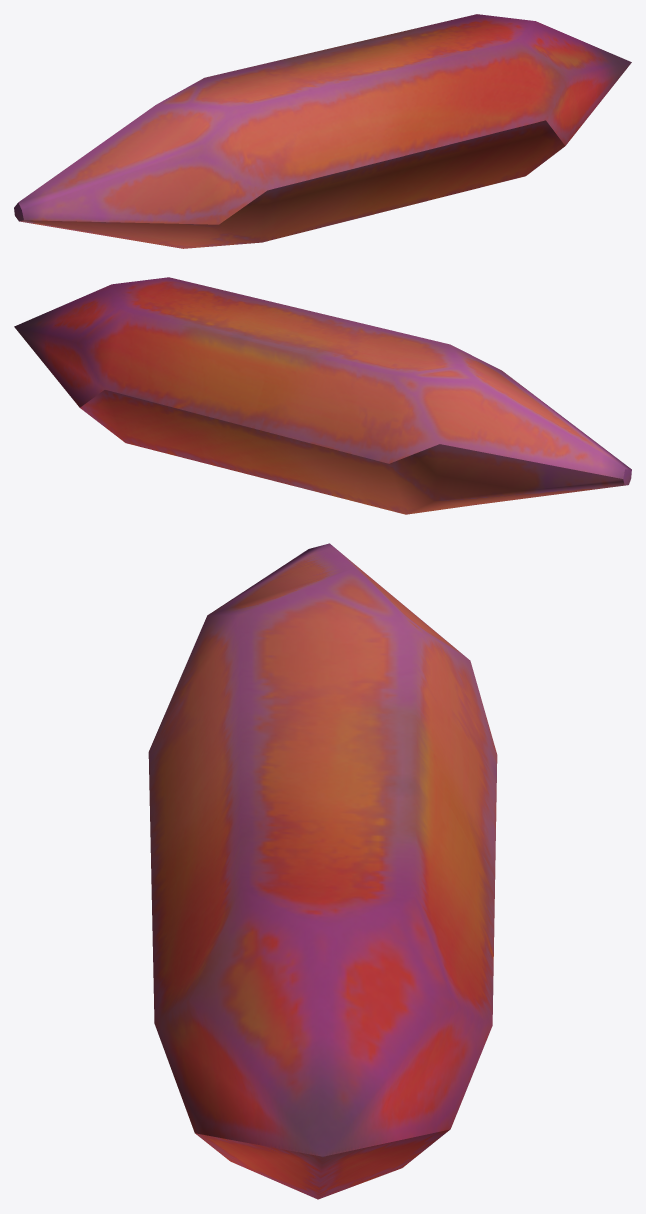
The model's file is SM_Potion_Props_Loot_Gem_02_A.fbx.
3 views of the same model, one above another, from view 1: azimuth 30°, elevation 25°; view 2: azimuth 150°, elevation 25°; view 3: azimuth 270°, elevation 25° (orthographic). The views are drawn at different scales.
Visible parts, largest first — view 1: SM_Potion_Props_Loot_Gem_02_A_LOD0; view 2: SM_Potion_Props_Loot_Gem_02_A_LOD0; view 3: SM_Potion_Props_Loot_Gem_02_A_LOD0.
Part boxes in pixels (x1,y1,x2,y2): SM_Potion_Props_Loot_Gem_02_A_LOD0: (14,14,631,248); SM_Potion_Props_Loot_Gem_02_A_LOD0: (14,277,631,514); SM_Potion_Props_Loot_Gem_02_A_LOD0: (148,543,497,1199).
Size of what is drawn, in the model's own units: 17.26 by 3.77 by 4.25.
